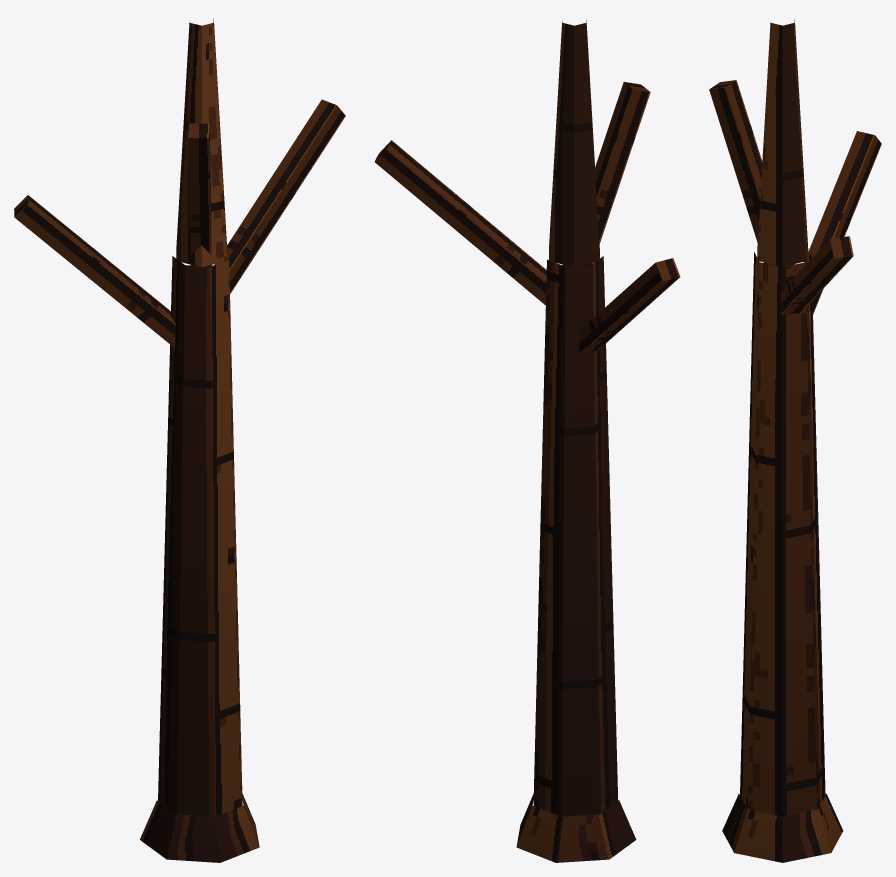
Rendered from oak_1_trunk.glb.
3 renders of one model, left to right at view 1: azimuth 30°, elevation 25°; view 2: azimuth 150°, elevation 25°; view 3: azimuth 270°, elevation 25°, orthographic.
Visible parts, largest first — view 1: oak_1_trunk; view 2: oak_1_trunk; view 3: oak_1_trunk.
Part boxes in pixels (<box>): oak_1_trunk: <box>14,18,345,862</box>; oak_1_trunk: <box>374,19,680,862</box>; oak_1_trunk: <box>709,19,881,862</box>.
Size of the model in its own units: 2.11 by 5.22 by 1.
1 material, 1 textured.
